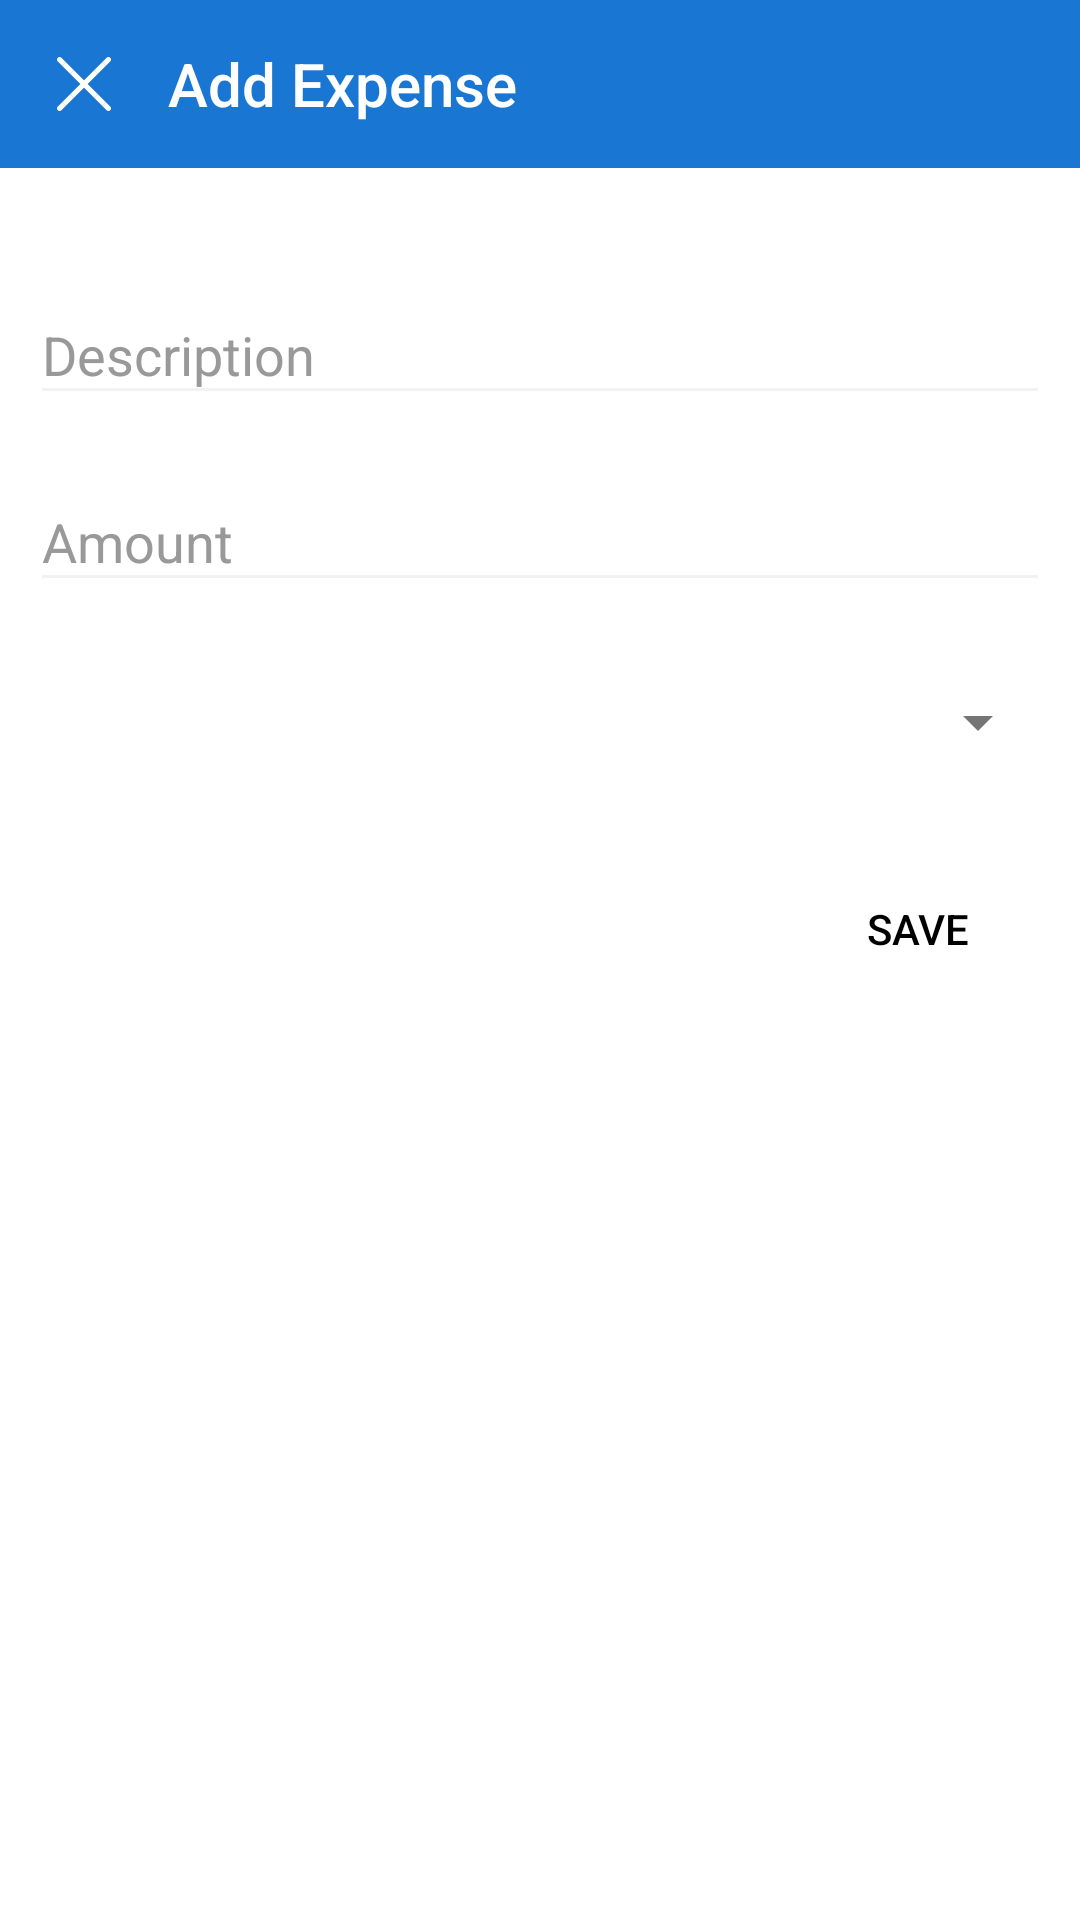

Icon bounding boxes for this 1080px x 1920px phone screenshot, format {"x1": x1, "y1": y1, "x2": x2, "y2": y2}:
cancel: {"x1": 57, "y1": 57, "x2": 111, "y2": 111}
